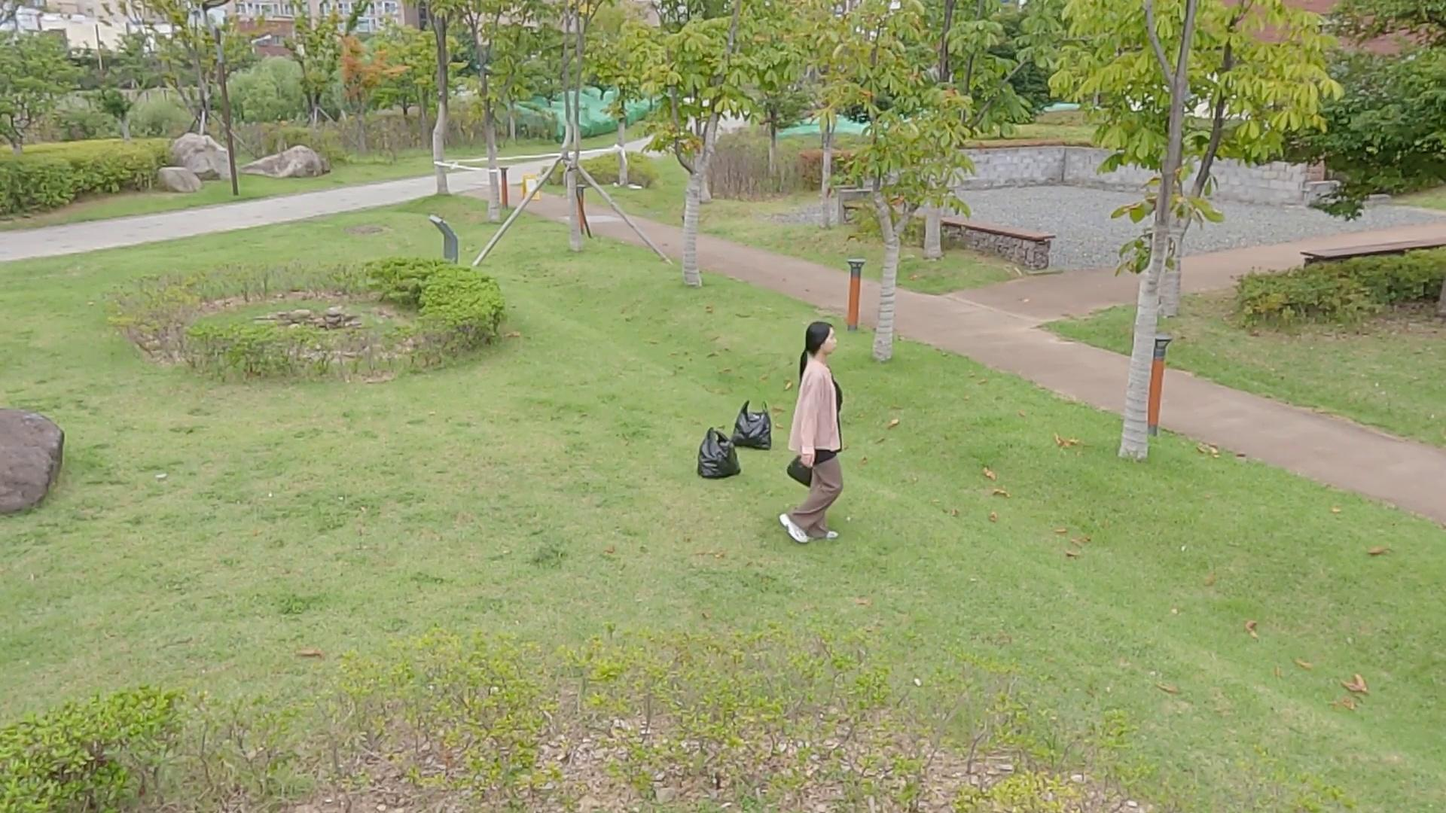person: (789, 320, 847, 558)
trash: (699, 425, 745, 482), (731, 401, 774, 452), (783, 454, 823, 488)
